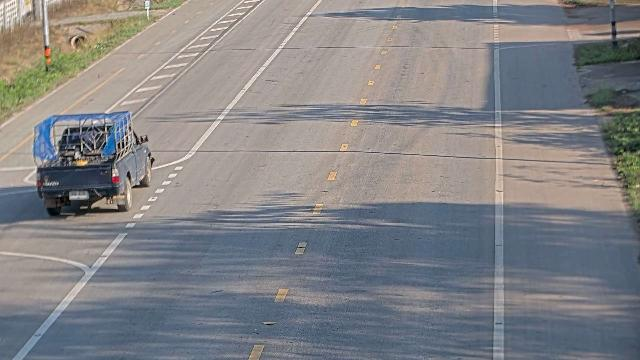pickup-truck: (32, 110, 154, 216)
